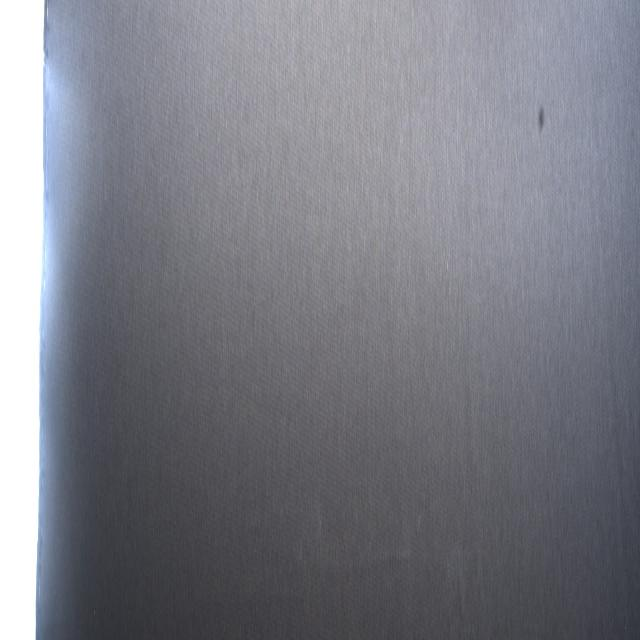crease: (599, 243, 628, 581), (316, 528, 425, 581)
whiteDefect: (439, 528, 481, 618)
